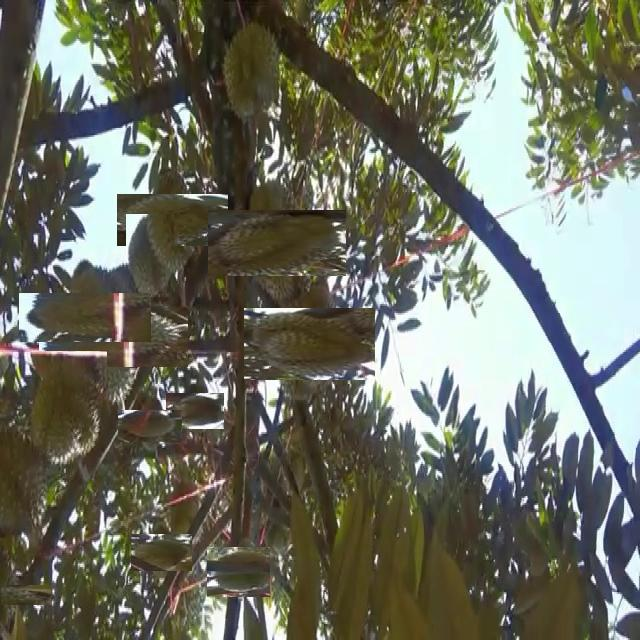durian: (60, 284, 166, 389), (225, 191, 328, 294), (259, 293, 361, 395), (25, 351, 107, 469), (39, 273, 131, 363), (213, 23, 285, 132), (132, 179, 214, 261), (1, 425, 49, 550), (126, 214, 174, 304), (210, 544, 267, 600), (163, 480, 203, 547), (137, 527, 186, 577), (125, 402, 174, 450), (172, 387, 219, 434), (0, 571, 37, 620)
